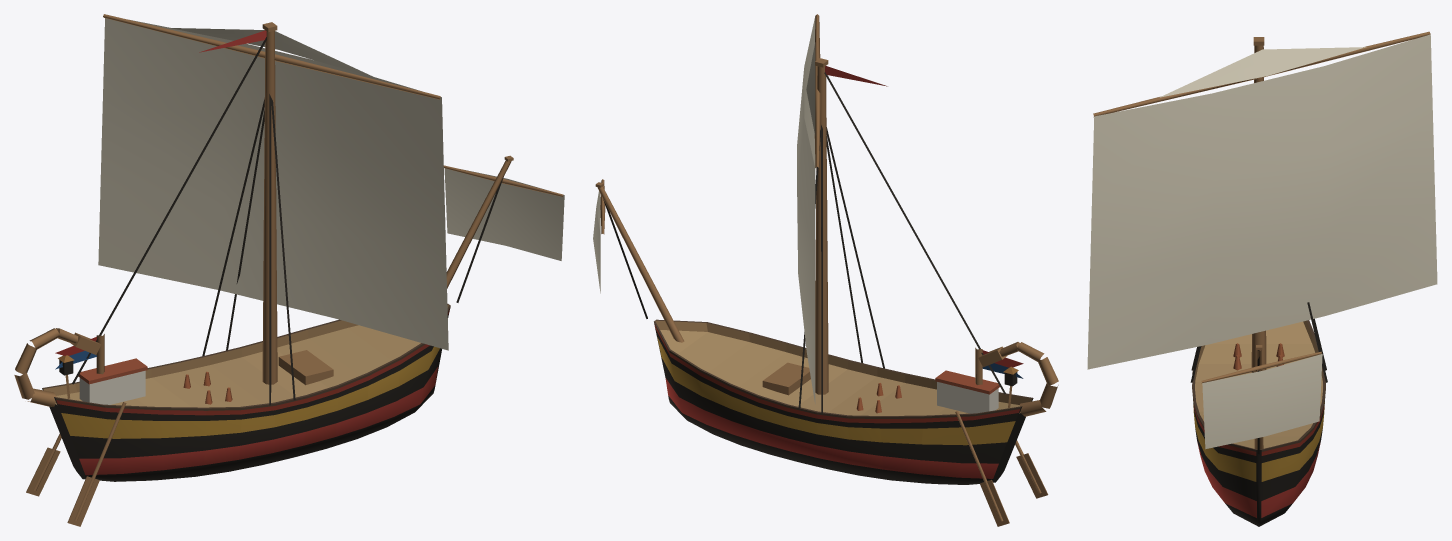
Rendered from hull_usd_merchant_large.glb.
3 renders of one model, left to right at view 1: azimuth 30°, elevation 25°; view 2: azimuth 150°, elevation 25°; view 3: azimuth 270°, elevation 25°, orthographic. The views are drawn at different scales.
Parts seen in each view (by area): view 1: sail_main, hull, deck, mast, rigging, yards, sail_extra, flag; view 2: hull, sail_main, deck, mast, rigging, yards, flag; view 3: sail_main, hull, sail_extra, yards, mast, rigging.
Boxes of the visible parts, bbox=[...] form: sail_main: bbox=[98, 18, 564, 350]; hull: bbox=[14, 303, 450, 481]; deck: bbox=[26, 350, 333, 526]; mast: bbox=[96, 22, 513, 384]; rigging: bbox=[72, 37, 503, 405]; yards: bbox=[103, 14, 563, 196]; sail_extra: bbox=[171, 28, 376, 78]; flag: bbox=[55, 30, 266, 369]; hull: bbox=[654, 319, 1058, 484]; sail_main: bbox=[593, 16, 815, 403]; deck: bbox=[762, 362, 1048, 526]; mast: bbox=[595, 58, 982, 394]; rigging: bbox=[603, 72, 1005, 413]; yards: bbox=[600, 14, 820, 234]; flag: bbox=[825, 66, 1023, 378]; sail_main: bbox=[1087, 34, 1437, 449]; hull: bbox=[1192, 320, 1325, 526]; sail_extra: bbox=[1159, 47, 1366, 97]; yards: bbox=[1093, 31, 1430, 383]; mast: bbox=[1251, 37, 1266, 449]; rigging: bbox=[1190, 302, 1327, 454].
Size of the model in its own units: 23.39 by 18.66 by 13.62.
